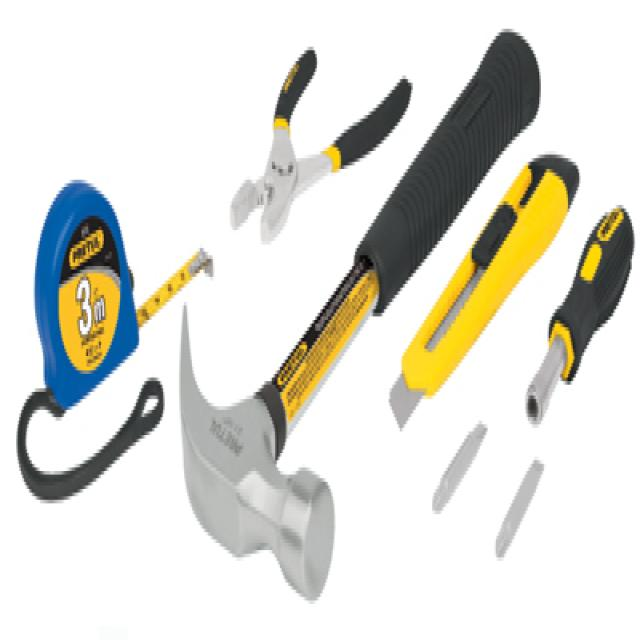Screwdriver: (526, 208, 634, 423)
